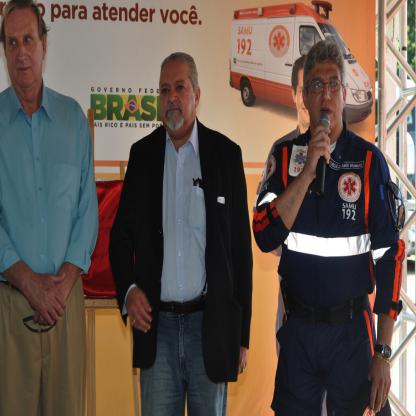Ambulance: (228, 0, 375, 126)
